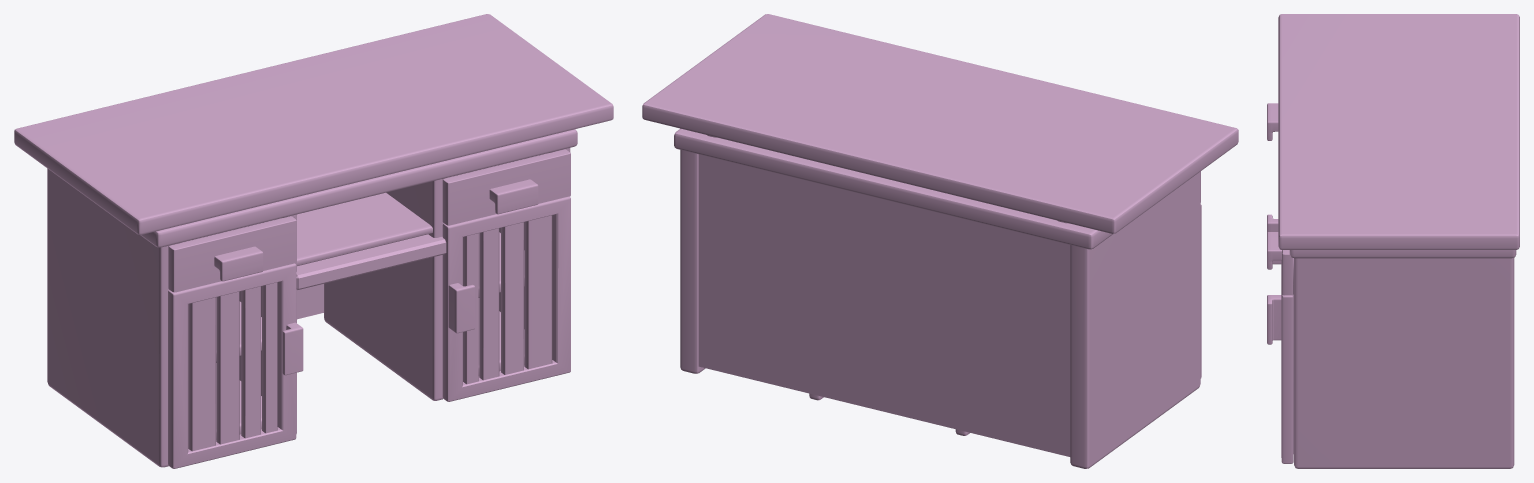
Rendered from toliet_sink_cabinet.FBX.
3 renders of one model, left to right at view 1: azimuth 30°, elevation 25°; view 2: azimuth 150°, elevation 25°; view 3: azimuth 270°, elevation 25°, orthographic. The views are drawn at different scales.
Parts seen in each view (by area): view 1: polySurface98; view 2: polySurface98; view 3: polySurface98.
Part boxes in pixels (box(x1,y1,x2,y2)): polySurface98: box(14, 14, 613, 468); polySurface98: box(642, 14, 1238, 468); polySurface98: box(1267, 14, 1519, 468).
Bounding box in the file's own units: 1.92 × 1.01 × 0.9237.
